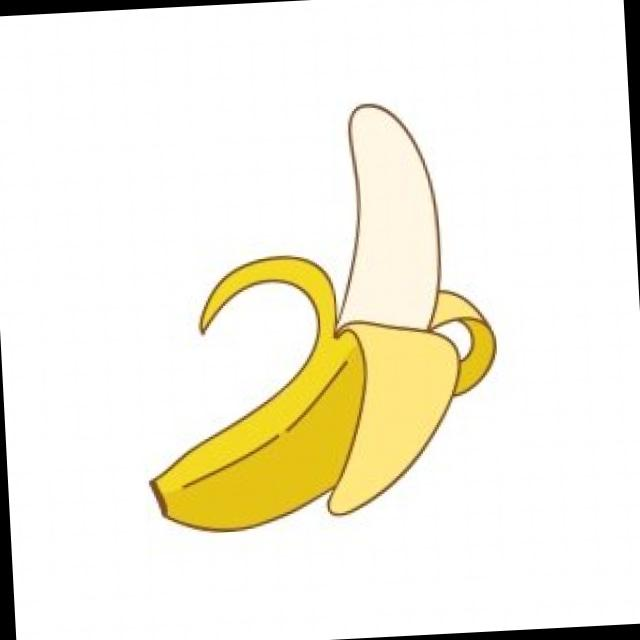banana: (133, 82, 475, 558)
